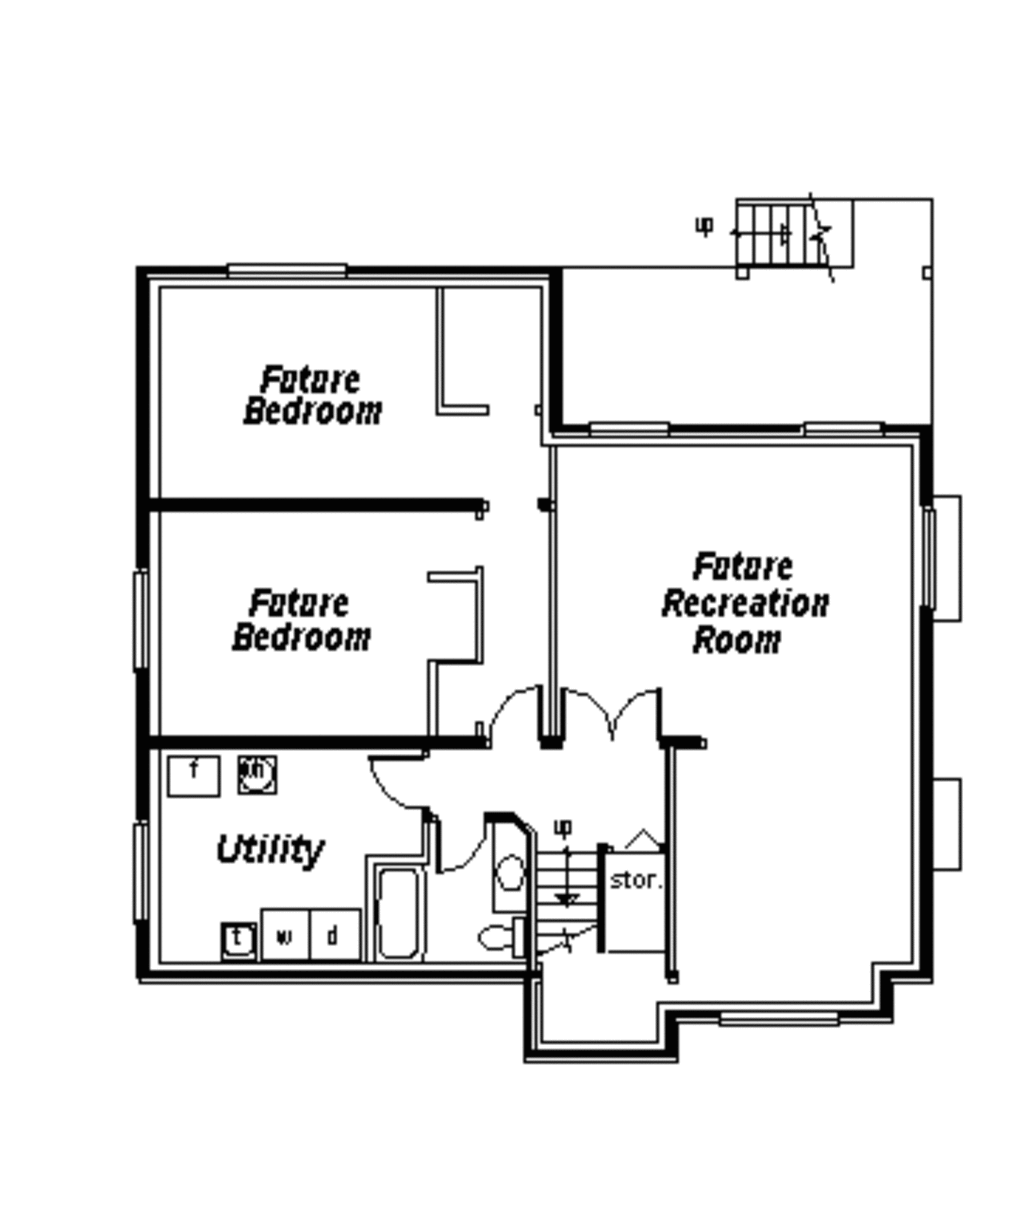door: (564, 678, 670, 750), (360, 748, 444, 819), (433, 802, 507, 869), (479, 680, 542, 750)
large_sink: (466, 917, 525, 956)
small_sink: (498, 832, 540, 926)
stairs: (716, 169, 863, 278), (527, 845, 616, 965)
tub: (360, 854, 435, 965)
window: (118, 567, 172, 693), (225, 254, 359, 291), (714, 1004, 842, 1039), (583, 409, 685, 446), (135, 819, 155, 926), (922, 506, 942, 608)
